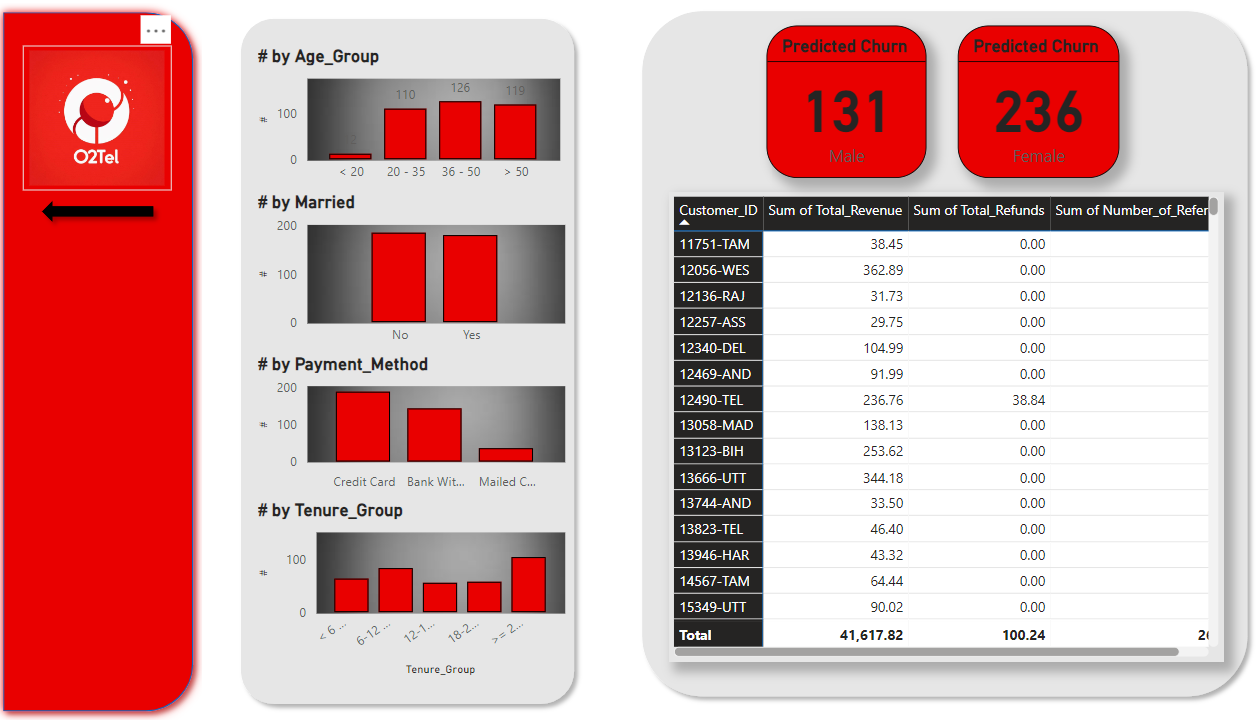

The dashboard page shown, as its layout file describes it:
{"tool":"powerbi","page":{"name":"ML_Churn_Prediction_Dash","canvas":[1280,720],"ordinal":1},"visuals":[{"type":"shape","box":[616.8,13.1,602.2,679.5],"z":0},{"type":"shape","box":[228.9,20.4,339.8,679.5],"z":1000},{"type":"pivotTable","fields":{"Rows":["stg_pred.Customer_ID"],"Values":["Sum(stg_pred.Total_Revenue)","Sum(stg_pred.Total_Refunds)","Sum(stg_pred.Number_of_Referrals)"]},"box":[651.8,196.9,535.2,453.5],"z":2000},{"type":"card","title":"Predicted Churn","fields":{"Values":["measures_tcc.Predictec_Churner_Count"]},"box":[745.1,36.5,154.6,147.3],"z":3000},{"type":"card","title":"Predicted Churn","fields":{"Values":["measures_tcc.Predictec_Churner_Count"]},"box":[930.3,36.5,156,147.3],"z":4000},{"type":"shape","box":[0,14.4,201.2,692.6],"z":5000},{"type":"clusteredColumnChart","fields":{"Category":["mapping_AgeGrp.Age_Group"],"Y":["CountNonNull(stg_pred.Customer_ID)"]},"box":[249.4,55.4,301.8,140],"z":6000},{"type":"clusteredColumnChart","fields":{"Category":["stg_pred.Married"],"Y":["CountNonNull(stg_pred.Customer_ID)"]},"box":[249.4,196.9,306.2,156],"z":7000},{"type":"clusteredColumnChart","fields":{"Category":["stg_pred.Payment_Method"],"Y":["CountNonNull(stg_pred.Customer_ID)"]},"box":[249.4,352.9,306.2,140],"z":8000},{"type":"clusteredColumnChart","fields":{"Category":["mapping_TenureGrp.Tenure_Group"],"Y":["CountNonNull(stg_pred.Customer_ID)"]},"box":[249.4,492.9,306.2,175],"z":9000},{"type":"shape","box":[37.9,196.9,125.4,37.9],"z":10000},{"type":"image","box":[27.7,55.5,143.6,139.9],"z":11000}]}

Visuals, with their boxes in screenshot pixels (x1, y1, x2, y2), scaled from the page's 1280x720 canvas onto the 1257x720 screenshot:
shape: region(606, 13, 1197, 693)
shape: region(225, 20, 558, 700)
pivotTable - stg_pred.Customer_ID x Sum(stg_pred.Total_Revenue): region(640, 197, 1166, 650)
"Predicted Churn" card: region(732, 36, 884, 184)
"Predicted Churn" card: region(914, 36, 1067, 184)
shape: region(0, 14, 198, 707)
clusteredColumnChart - mapping_AgeGrp.Age_Group x CountNonNull(stg_pred.Customer_ID): region(245, 55, 541, 195)
clusteredColumnChart - stg_pred.Married x CountNonNull(stg_pred.Customer_ID): region(245, 197, 546, 353)
clusteredColumnChart - stg_pred.Payment_Method x CountNonNull(stg_pred.Customer_ID): region(245, 353, 546, 493)
clusteredColumnChart - mapping_TenureGrp.Tenure_Group x CountNonNull(stg_pred.Customer_ID): region(245, 493, 546, 668)
shape: region(37, 197, 160, 235)
image: region(27, 56, 168, 195)
